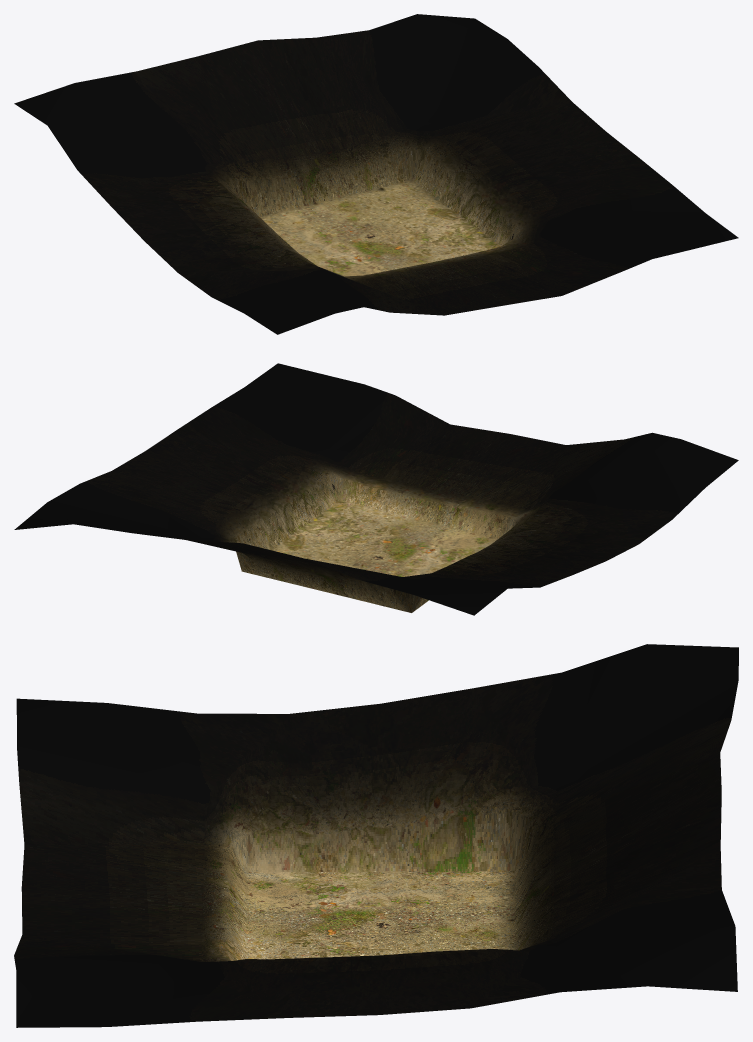
File: terrain.glb
The picture shows the model from 3 angles, top to bottom: view 1: azimuth 30°, elevation 25°; view 2: azimuth 150°, elevation 25°; view 3: azimuth 270°, elevation 25°; orthographic projection. The views are drawn at different scales.
Visible parts, largest first — view 1: Terrain; view 2: Terrain; view 3: Terrain.
Boxes of the visible parts, x1,y1,x2,y2 form: Terrain: [14, 14, 738, 334]; Terrain: [14, 363, 738, 615]; Terrain: [14, 644, 738, 1027].
Bounding box in the file's own units: 256 × 54.26 × 254.
1 material, 1 textured.
